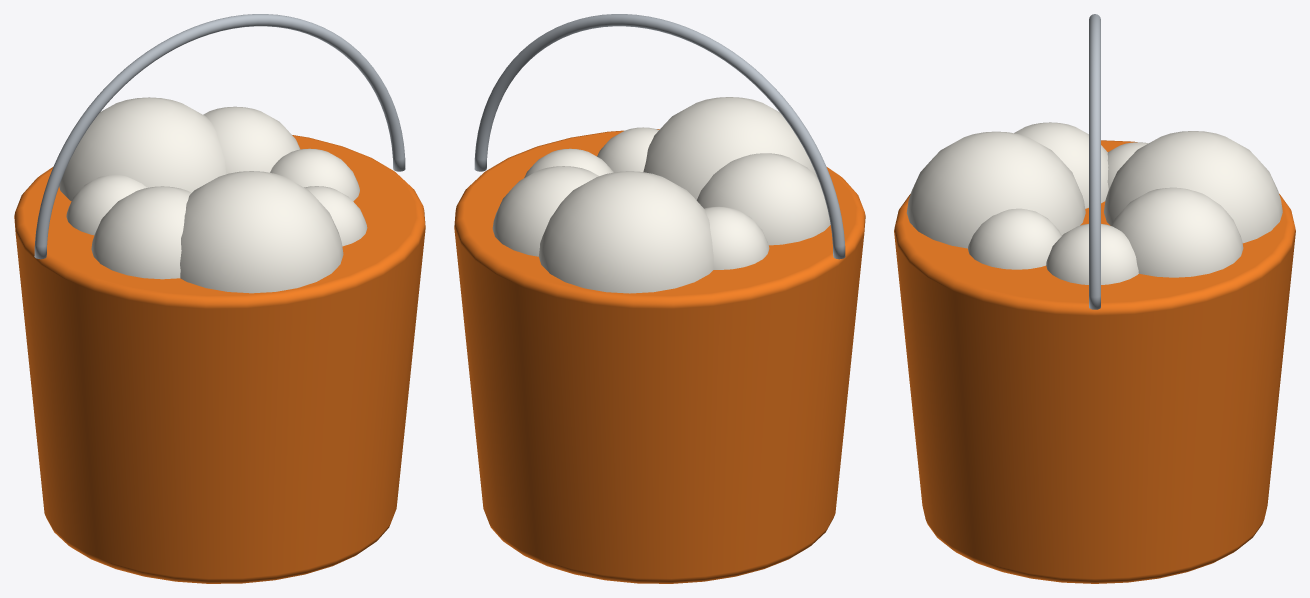
The model's file is bucket.glb.
3 views of the same model, side by side, from view 1: azimuth 30°, elevation 25°; view 2: azimuth 150°, elevation 25°; view 3: azimuth 270°, elevation 25° (orthographic). The views are drawn at different scales.
Parts seen in each view (by area): view 1: Pail, Foam.005, Foam.002, Handle.002, Foam.004, Foam.001, Foam, Foam.003, Foam.006; view 2: Pail, Foam.002, Foam.005, Foam.004, Handle.002, Foam.001, Foam.003, Foam.006, Foam; view 3: Pail, Foam.005, Foam.002, Foam.001, Foam.006, Foam, Handle.002, Foam.004, Foam.003.
Part boxes in pixels (x1,y1,x2,y2): Pail: [14, 135, 425, 583]; Foam.005: [180, 171, 343, 293]; Foam.002: [59, 97, 226, 200]; Handle.002: [34, 14, 405, 259]; Foam.004: [91, 186, 191, 279]; Foam.001: [203, 106, 300, 173]; Foam: [270, 148, 359, 201]; Foam.003: [66, 174, 146, 235]; Foam.006: [304, 186, 367, 246]; Pail: [454, 129, 865, 583]; Foam.002: [538, 171, 713, 293]; Foam.005: [643, 97, 817, 199]; Foam.004: [696, 153, 830, 245]; Handle.002: [474, 14, 845, 259]; Foam.001: [492, 166, 598, 256]; Foam.003: [704, 206, 769, 269]; Foam.006: [597, 127, 658, 172]; Foam: [524, 148, 613, 177]; Pail: [894, 140, 1295, 583]; Foam.005: [906, 131, 1085, 248]; Foam.002: [1104, 131, 1282, 243]; Foam.001: [1112, 187, 1243, 277]; Foam.006: [968, 208, 1061, 269]; Foam: [1046, 224, 1138, 284]; Handle.002: [1089, 14, 1100, 309]; Foam.004: [1014, 122, 1108, 208]; Foam.003: [1107, 142, 1148, 189].
Bounding box in the file's own units: 0.412 × 0.526 × 0.3981.
